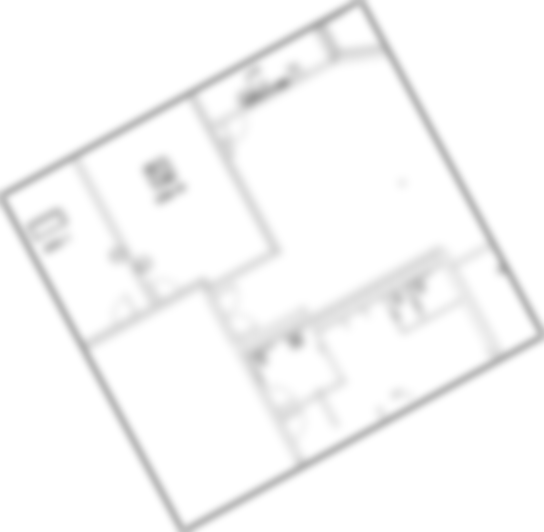door: (216, 108, 252, 144), (108, 290, 140, 330), (278, 404, 308, 445), (259, 385, 297, 412), (147, 277, 184, 304)
double door: (209, 283, 260, 341)
